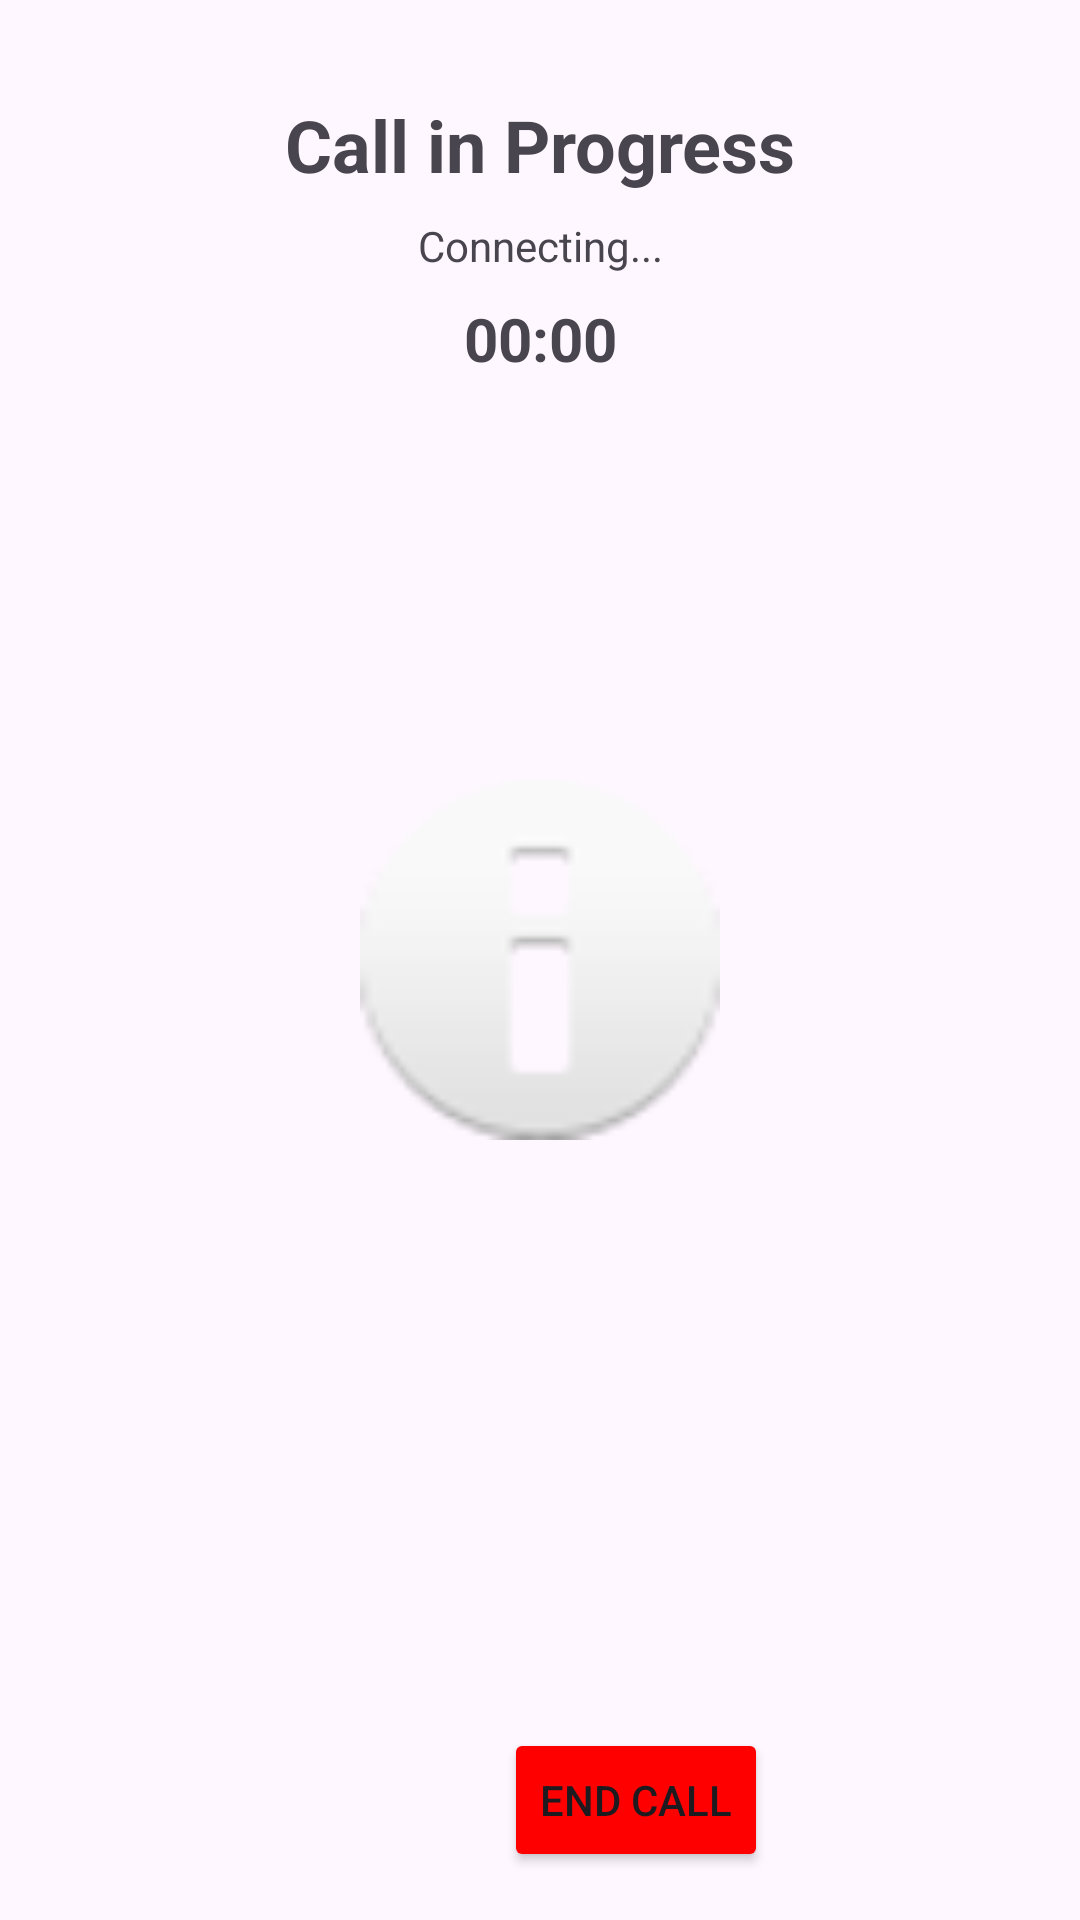

Icon bounding boxes for this 1080*1920 phone screenshot, format (x1, y1, x2, y2):
info: (360, 846, 720, 1140)
